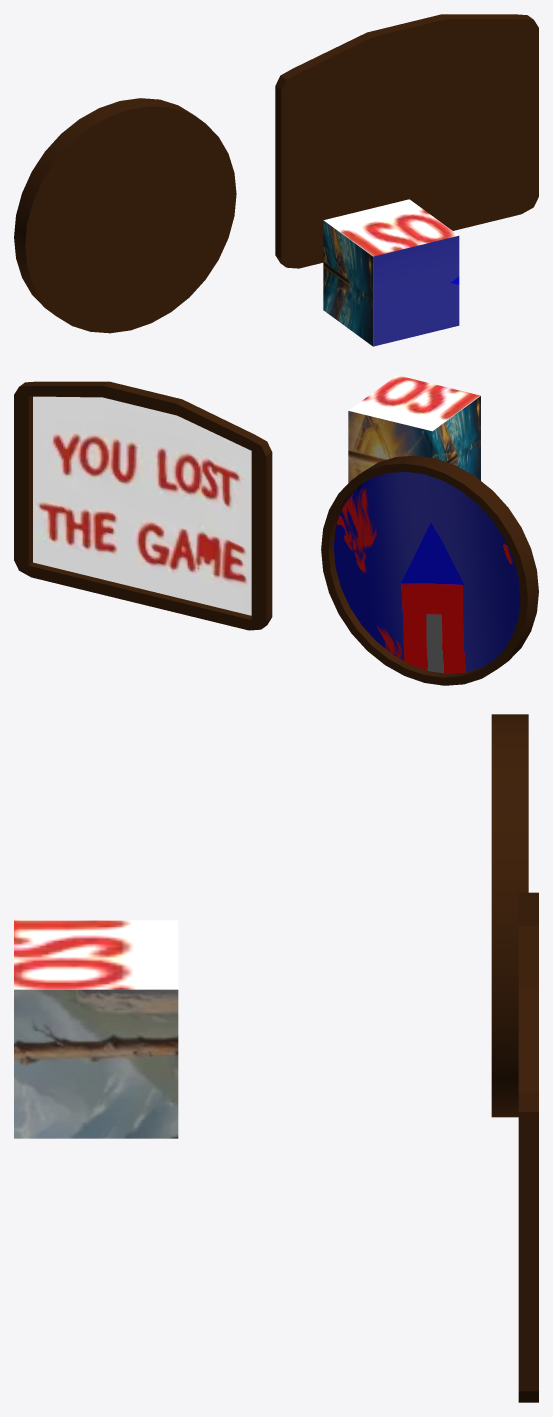
File: paintings.glb
3 views of the same model, one above another, from view 1: azimuth 30°, elevation 25°; view 2: azimuth 150°, elevation 25°; view 3: azimuth 270°, elevation 25° (orthographic). The views are drawn at different scales.
Visible parts, largest first — view 1: FrameSqaure, FrameCirlce, Cube; view 2: FrameSqaure, FrameCirlce, Cube; view 3: Cube, FrameCirlce, FrameSqaure.
Boxes of the visible parts, bbox=[...] form: FrameSqaure: bbox=[275, 14, 538, 268]; FrameCirlce: bbox=[14, 98, 236, 333]; Cube: bbox=[323, 199, 459, 346]; FrameSqaure: bbox=[14, 381, 272, 630]; FrameCirlce: bbox=[321, 455, 538, 685]; Cube: bbox=[348, 375, 480, 482]; Cube: bbox=[14, 920, 178, 1138]; FrameCirlce: bbox=[491, 714, 528, 1117]; FrameSqaure: bbox=[518, 892, 538, 1402].
Bounding box in the file's own units: 12.13 × 5.03 × 6.39.
Materials: 5 (4 with a texture image).
